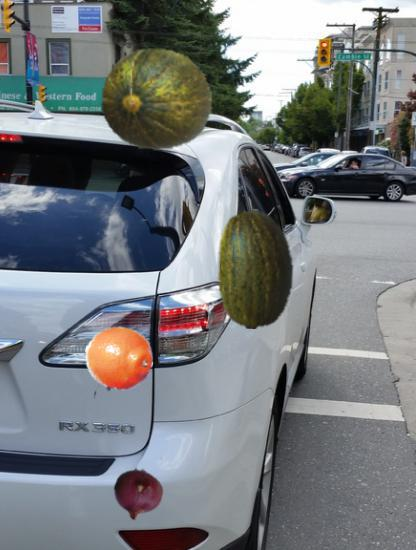Melon: (196, 209, 316, 329), (96, 40, 215, 159)
Onion: (109, 463, 168, 522)
Tangelo: (84, 325, 154, 395)
